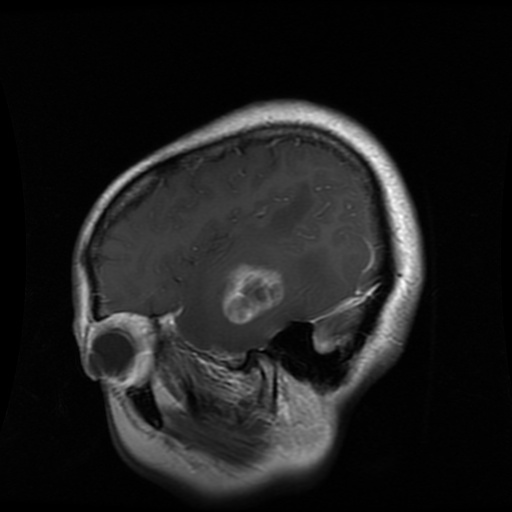glioma: (223, 261, 285, 323)
